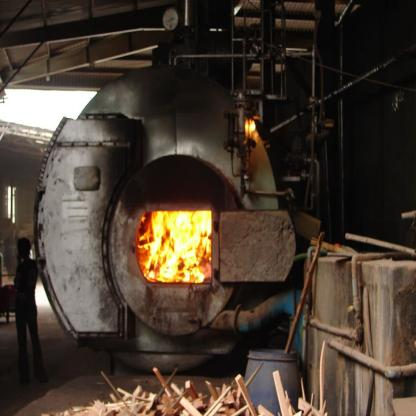fire: (140, 207, 214, 280)
